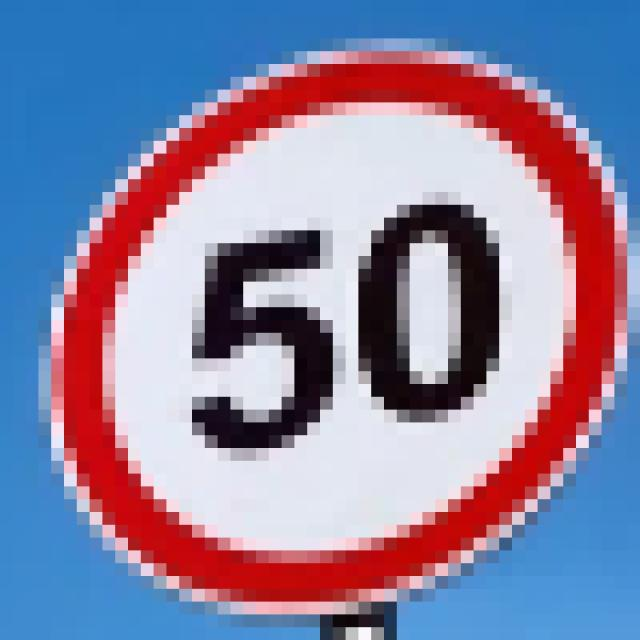Limite-50: (43, 41, 630, 619)
